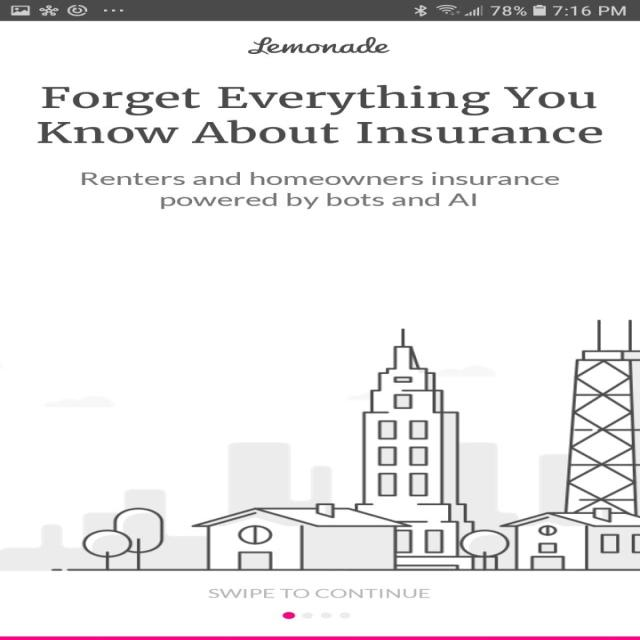Image: (0, 319, 639, 570), (247, 37, 389, 55)
Text: (36, 86, 602, 144), (81, 172, 559, 209), (208, 588, 429, 598)
